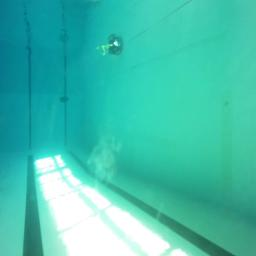Full: (59, 96, 69, 102)
